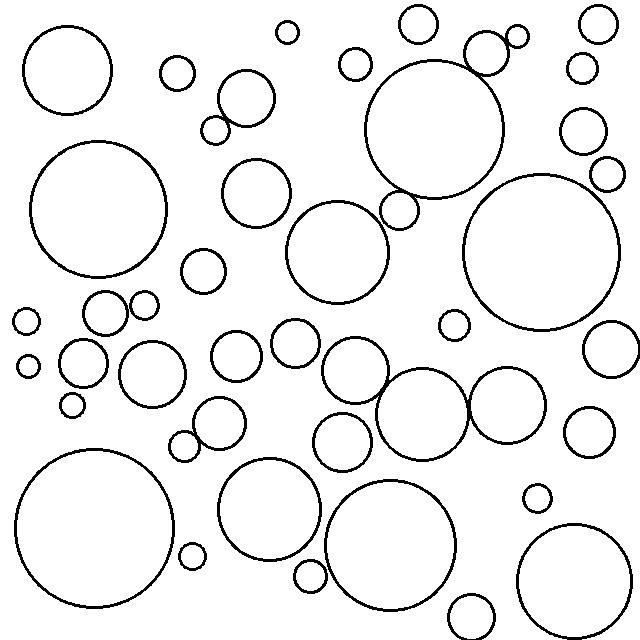circle: (14, 445, 176, 611), (460, 173, 623, 332), (29, 138, 171, 281), (365, 57, 505, 200), (325, 479, 459, 614), (517, 521, 633, 640), (214, 454, 324, 562), (286, 195, 389, 305), (376, 365, 473, 464), (20, 21, 116, 119), (469, 364, 548, 446), (117, 338, 191, 411), (220, 156, 293, 230), (320, 335, 392, 406), (310, 409, 375, 475), (217, 68, 277, 129), (580, 319, 640, 379), (191, 392, 249, 454), (208, 328, 266, 385), (563, 404, 617, 460), (556, 104, 613, 156), (271, 317, 322, 372), (179, 245, 232, 297), (59, 337, 111, 389), (80, 289, 131, 340), (448, 589, 499, 640), (463, 27, 511, 79), (397, 2, 440, 48), (577, 2, 620, 45), (381, 191, 422, 233), (158, 53, 198, 95), (589, 153, 628, 194), (337, 45, 375, 84), (520, 479, 557, 516), (437, 305, 472, 344), (565, 50, 601, 86), (293, 560, 330, 595), (167, 427, 200, 464), (177, 541, 210, 574), (272, 15, 304, 48), (57, 389, 90, 421), (12, 304, 42, 338), (201, 114, 231, 146), (131, 289, 161, 320), (14, 350, 42, 382), (508, 23, 532, 51)
